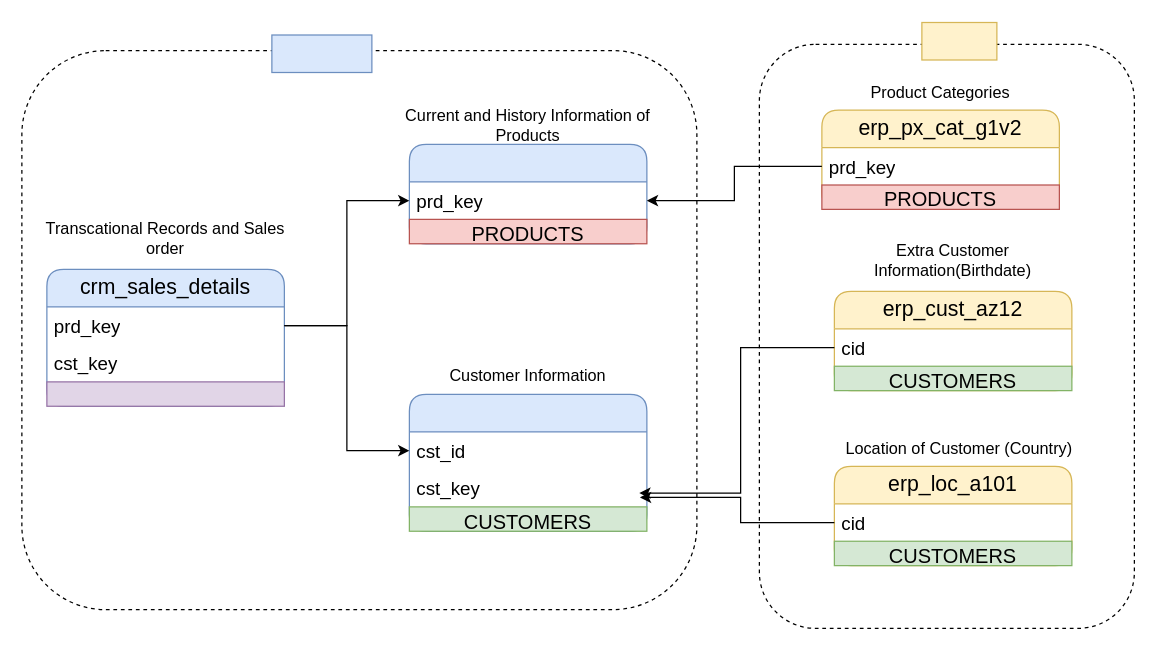
Some shapes in this 1156 by 650 pixel diagram are drawn without their labels. Here are the shapes that lost their labels. From the top down, the box of each, then its label:
(271, 34, 372, 72): CRM
(921, 21, 997, 60): ERP
(408, 143, 647, 244): crm_prd_info
(46, 381, 284, 406): SALES
(408, 393, 647, 531): crm_cust_info
